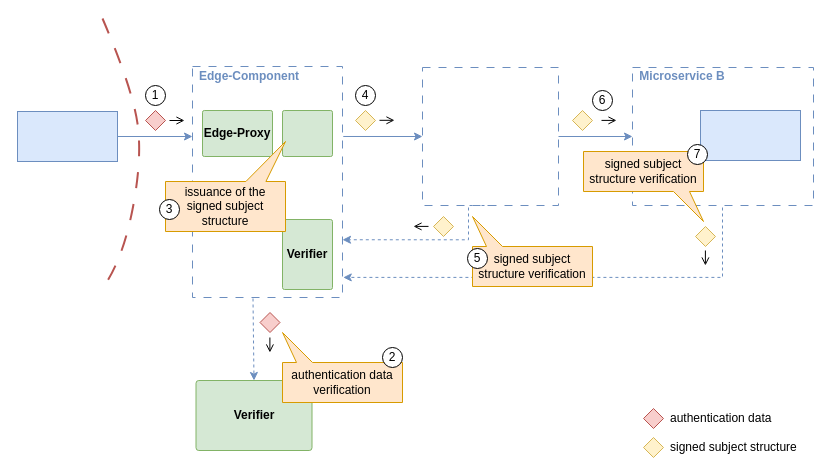
Some shapes in this 831 by 475 pixel diagram are drawn without their labels. Here are the shapes that lost their labels. From the top down, the centre of each, then its label:
At point 67,136: "Some Client «Subject»".
At point 307,133: "STS".
At point 490,136: "Microservice A".
At point 750,135: "Some Entity «Object»".
